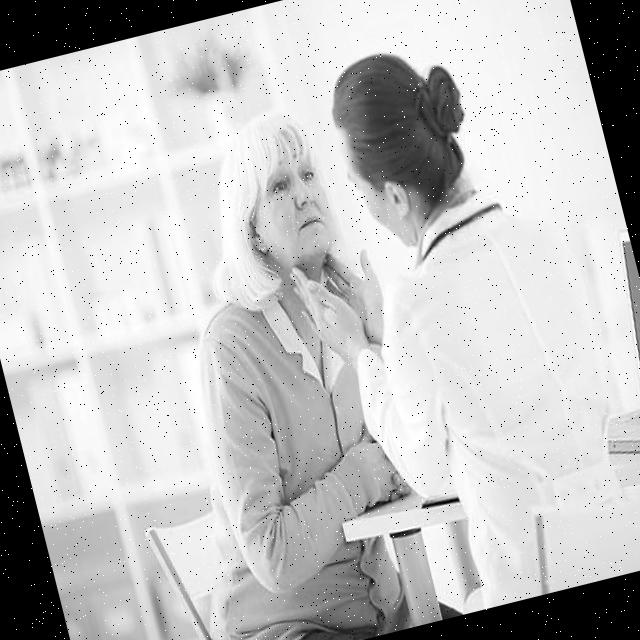Fear: (248, 128, 340, 266)
